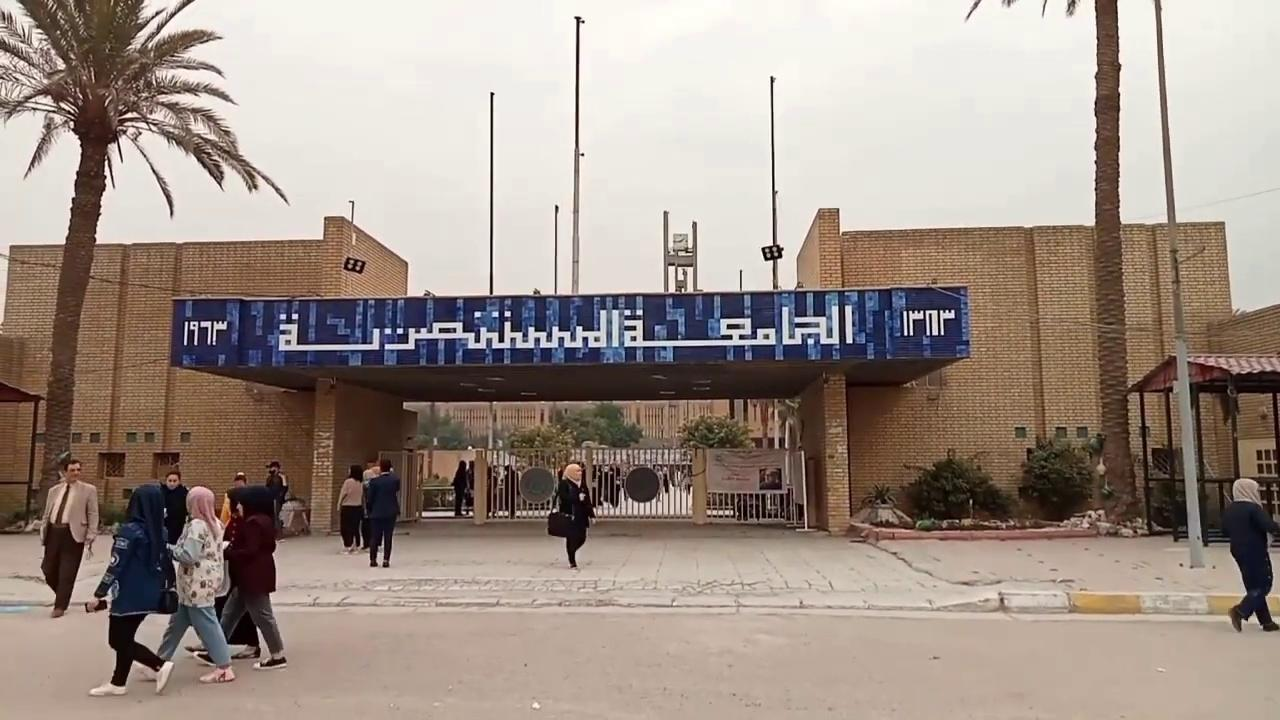person: (85, 483, 176, 696), (193, 484, 287, 671), (152, 485, 236, 686), (39, 458, 99, 618), (1221, 477, 1279, 632), (555, 462, 594, 569), (364, 458, 400, 567), (336, 464, 366, 554), (264, 460, 288, 529), (451, 459, 467, 516)
tree: (0, 0, 288, 525), (964, 0, 1145, 524), (674, 412, 754, 521), (898, 446, 1010, 521), (1019, 431, 1106, 521), (505, 420, 576, 474), (564, 402, 643, 449), (675, 412, 753, 450)
